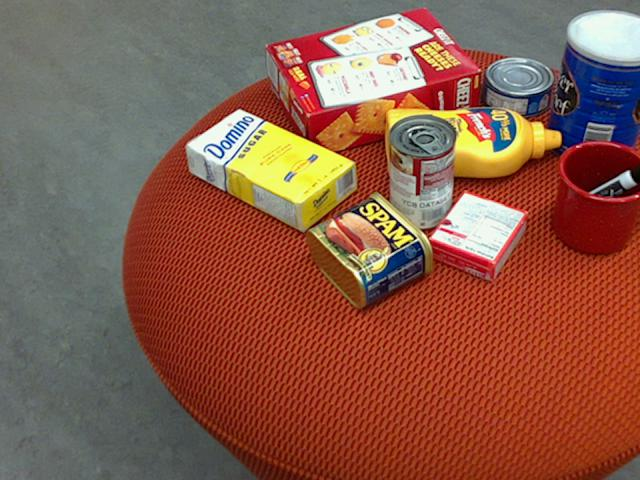cracker_box: (264, 7, 479, 157)
gelatin_box: (426, 191, 529, 283)
large_marker: (554, 161, 639, 223)
master_chef_can: (543, 10, 639, 168)
mug: (552, 139, 639, 254)
mustard_bottle: (384, 107, 559, 180)
potted_meat_can: (305, 190, 433, 308)
sugar_box: (184, 107, 355, 232)
tomato_soup_can: (387, 112, 455, 229)
tuna_fish_can: (479, 57, 552, 116)
